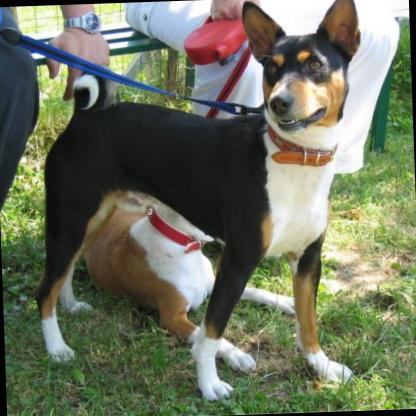basenji: (21, 0, 374, 410)
